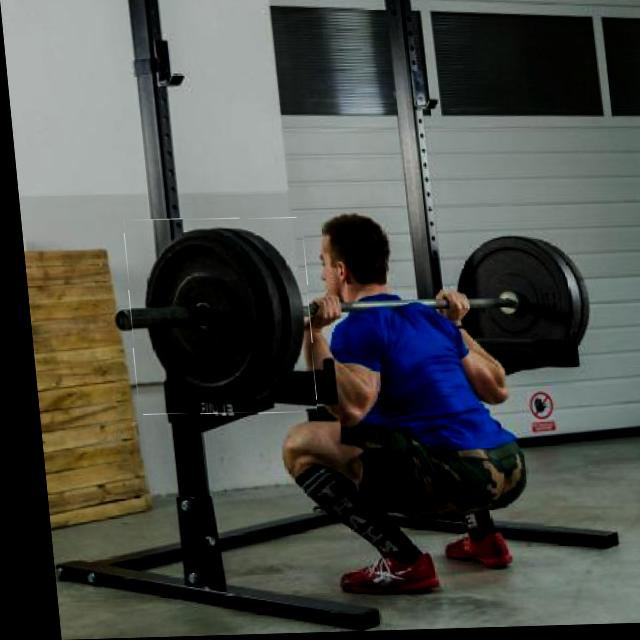barbell: (117, 218, 311, 418)
